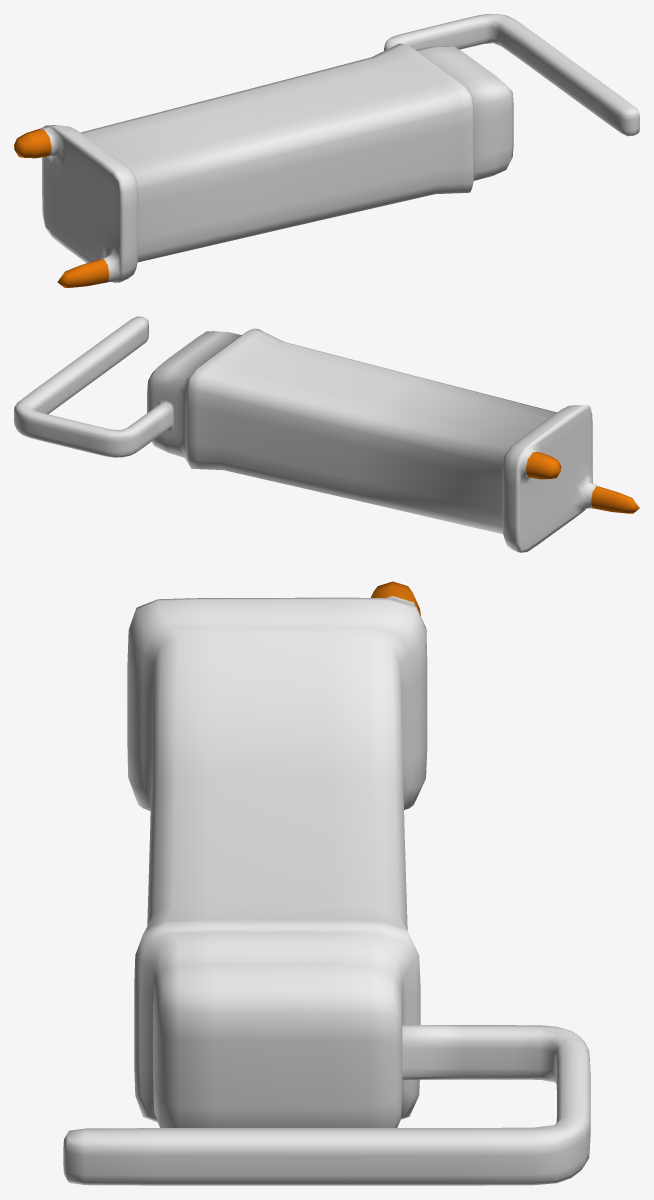
Rendered from Fusible_5.fbx.
The picture shows the model from 3 angles, top to bottom: view 1: azimuth 30°, elevation 25°; view 2: azimuth 150°, elevation 25°; view 3: azimuth 270°, elevation 25°; orthographic projection. The views are drawn at different scales.
Parts seen in each view (by area): view 1: Fusbiles.004; view 2: Fusbiles.004; view 3: Fusbiles.004.
Boxes of the visible parts, left/top/right/bottom form: Fusbiles.004: left=14, top=14, right=639, bottom=287; Fusbiles.004: left=14, top=316, right=639, bottom=552; Fusbiles.004: left=63, top=581, right=590, bottom=1185.
Size of the model in its own units: 315 by 60.2 by 136.
